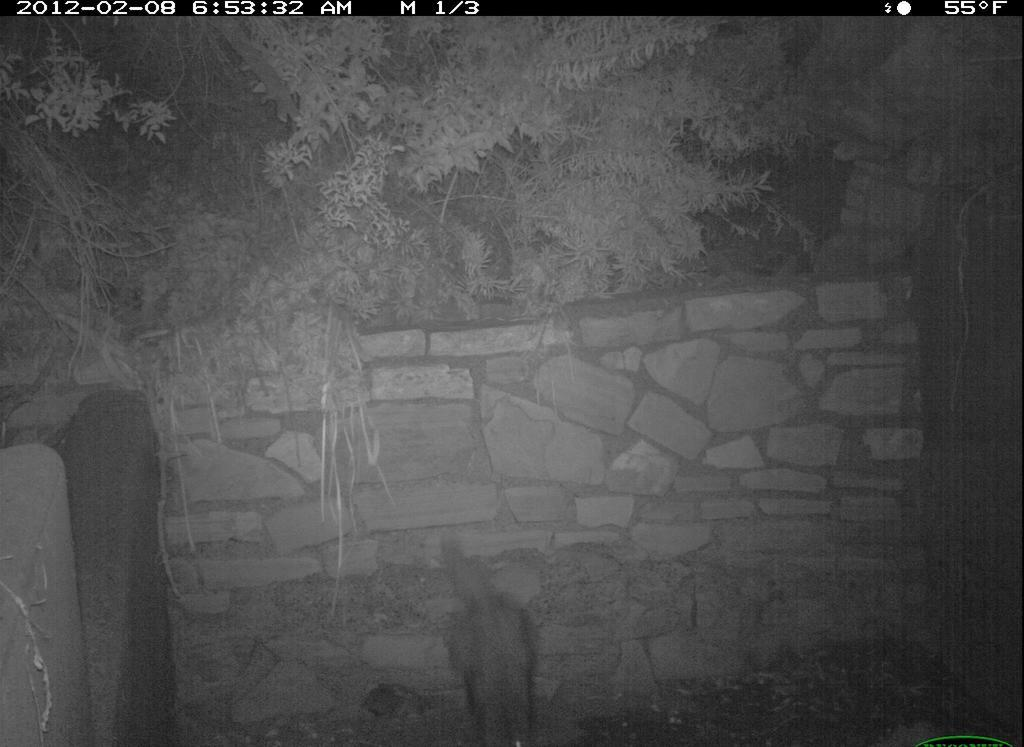raccoon: (432, 522, 546, 747)
